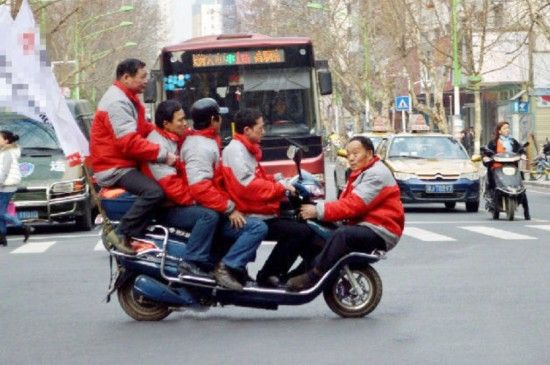non-vehicle: (87, 178, 385, 321), (477, 141, 536, 223)
